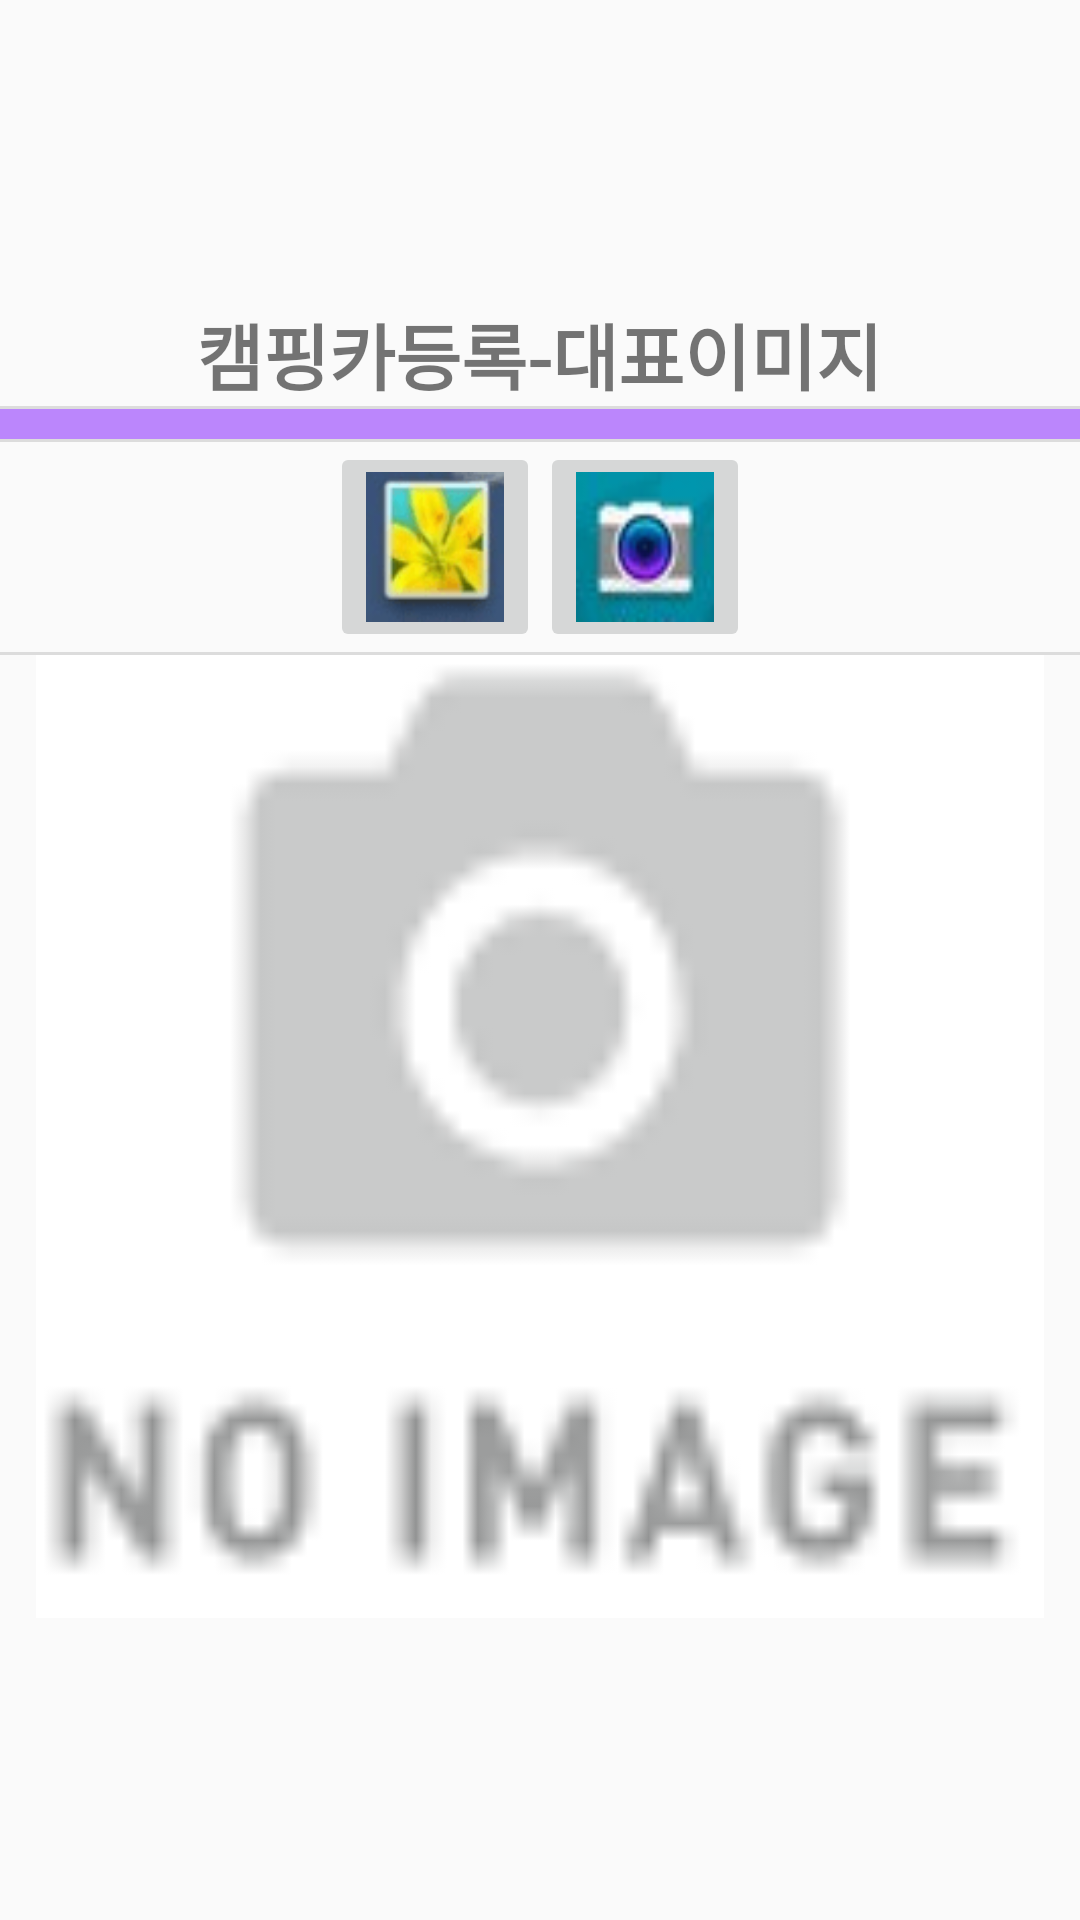

Locate icon controls on the screen. Image size 1080w x 1920h, boxes as (x1, y1, x2, y2).
camera: (552, 460, 738, 634)
galary: (342, 460, 528, 634)
